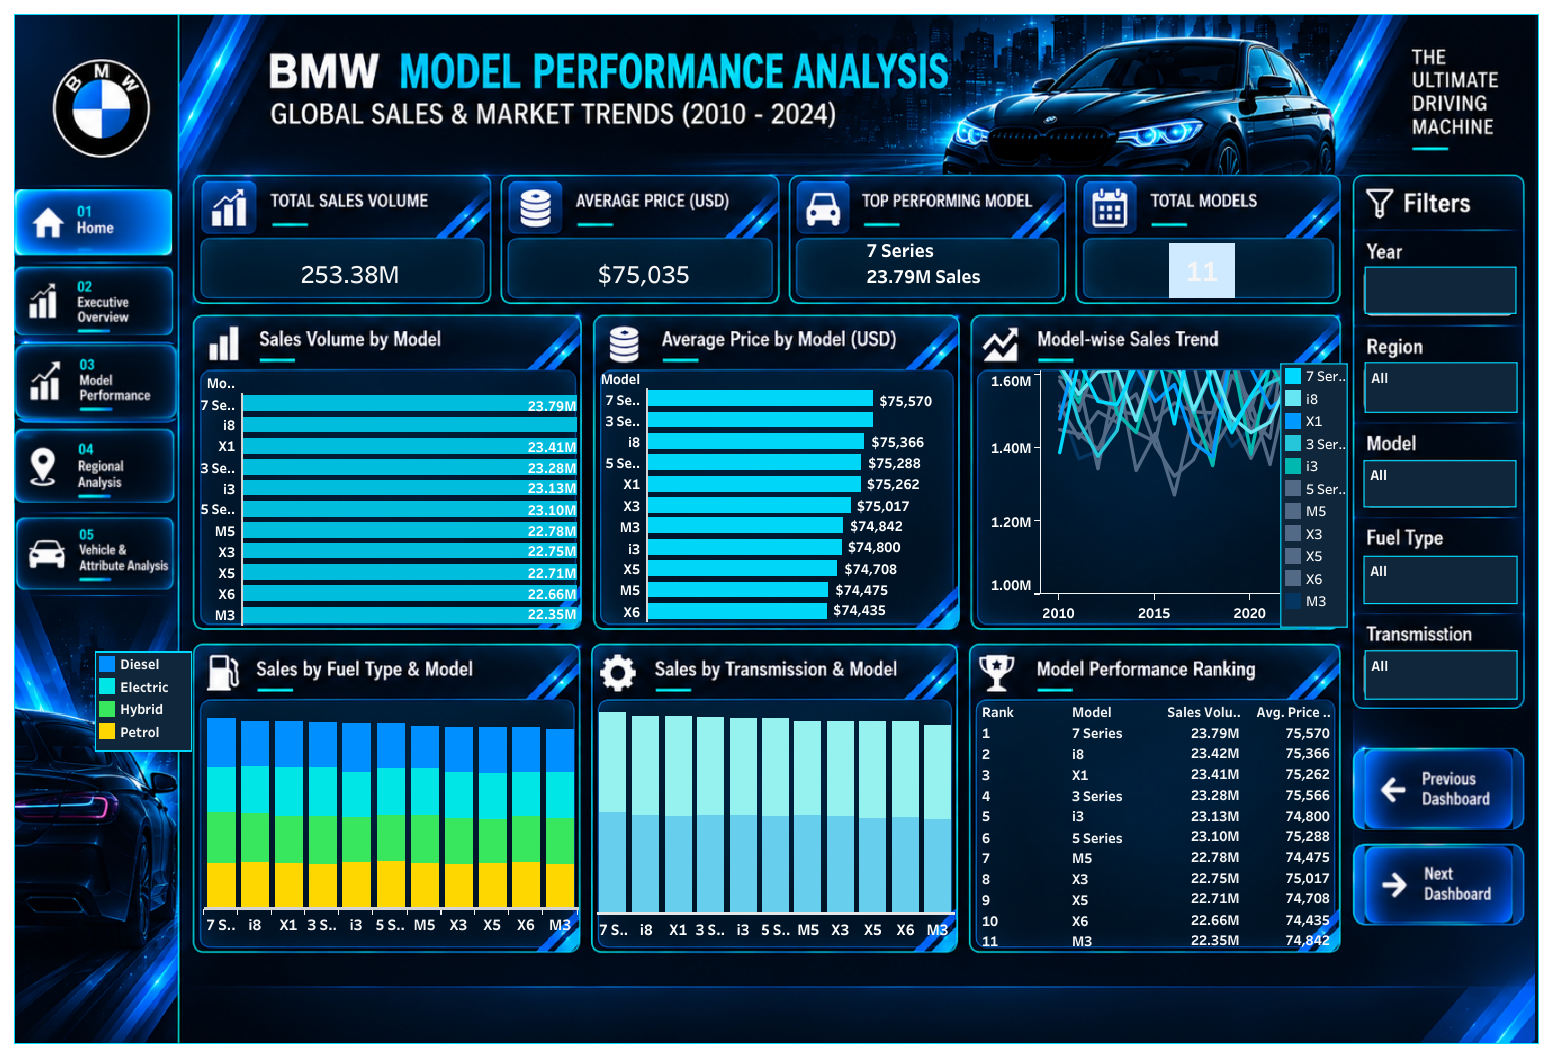

This screenshot's page, from the dashboard's own definition file:
{"tool":"tableau","page":{"name":"Dashboard 2","canvas":[1380,940],"ordinal":1},"visuals":[{"type":"image","param":"Image/BMW Neon Model Performance Dashboard.png","box":[8,8,1364,924]},{"type":"dashboard-object","box":[13,166,141,64]},{"type":"worksheet","title":"KPI - Top Modeling","mark":"Automatic","box":[766,211,160,56]},{"type":"worksheet","title":"KPI - Total Models","mark":"Automatic","box":[1039,216,86,62]},{"type":"worksheet","title":"KPI - Average Price","mark":"Text","rows":["Price_USD"],"box":[500,228,144,52]},{"type":"worksheet","title":"KPI- Total Sales Volume","mark":"Text","rows":["Sales_Volume"],"box":[239,234,146,107]},{"type":"dashboard-object","box":[13,235,141,66]},{"type":"filter","title":"Model-Wise Sales Trends","param":"[federated.18z69gv0p5a0b11arvxvz0n9zdok].[none:Year:qk]","box":[1213,237,135,42]},{"type":"dashboard-object","box":[13,305,144,69]},{"type":"filter","title":"Model Performance Ranking","param":"[federated.18z69gv0p5a0b11arvxvz0n9zdok].[none:Region:nk]","box":[1213,322,136,45]},{"type":"legend","title":"Model-Wise Sales Trends","param":"[federated.18z69gv0p5a0b11arvxvz0n9zdok].[none:Model:nk]","box":[1138,323,60,235]},{"type":"worksheet","title":"Average Price by Model (USD)","mark":"Automatic","rows":["Model"],"cols":["Price_USD"],"box":[534,325,315,227]},{"type":"worksheet","title":"Sales Volume by Model","mark":"Bar","rows":["Model"],"cols":["Sales_Volume"],"box":[178,329,335,226]},{"type":"worksheet","title":"Model-Wise Sales Trends","mark":"Line","rows":["Sales_Volume"],"cols":["Year"],"box":[868,329,328,230]},{"type":"dashboard-object","box":[13,372,142,85]},{"type":"filter","title":"Sales Volume by Model","param":"[federated.18z69gv0p5a0b11arvxvz0n9zdok].[none:Model:nk]","box":[1212,409,136,42]},{"type":"dashboard-object","box":[14,458,142,68]},{"type":"filter","title":"Sales by Fuel Type & Model","param":"[federated.18z69gv0p5a0b11arvxvz0n9zdok].[none:Fuel_Type:nk]","box":[1212,494,137,43]},{"type":"filter","title":"Sales by Transmission & Model","param":"[federated.18z69gv0p5a0b11arvxvz0n9zdok].[none:Transmission:nk]","box":[1213,578,136,44]},{"type":"legend","title":"Sales by Fuel Type & Model","param":"[federated.18z69gv0p5a0b11arvxvz0n9zdok].[none:Fuel_Type:nk]","box":[84,579,87,89]},{"type":"worksheet","title":"Model Performance Ranking","mark":"Automatic","rows":["Model"],"box":[867,622,320,223]},{"type":"worksheet","title":"Sales by Fuel Type & Model","mark":"Automatic","rows":["Sales_Volume"],"cols":["Model"],"box":[181,624,332,218]},{"type":"worksheet","title":"Sales by Transmission & Model","mark":"Automatic","rows":["Sales_Volume"],"cols":["Model"],"box":[531,624,317,222]},{"type":"dashboard-object","box":[1198,666,162,71]},{"type":"dashboard-object","box":[1204,752,151,69]}]}

Visuals, with their boxes in screenshot pixels (x1, y1, x2, y2), scaled from the page's 1380x940 canvas onto the 1551x1056 screenshot:
image: x1=9 y1=9 x2=1542 y2=1047
dashboard-object: x1=15 y1=186 x2=173 y2=258
"KPI - Top Modeling" worksheet: x1=861 y1=237 x2=1041 y2=300
"KPI - Total Models" worksheet: x1=1168 y1=243 x2=1264 y2=312
"KPI - Average Price" worksheet (Text marks): x1=562 y1=256 x2=724 y2=315
"KPI- Total Sales Volume" worksheet (Text marks): x1=269 y1=263 x2=433 y2=383
dashboard-object: x1=15 y1=264 x2=173 y2=338
"Model-Wise Sales Trends" filter: x1=1363 y1=266 x2=1515 y2=313
dashboard-object: x1=15 y1=343 x2=176 y2=420
"Model Performance Ranking" filter: x1=1363 y1=362 x2=1516 y2=412
"Model-Wise Sales Trends" legend: x1=1279 y1=363 x2=1346 y2=627
"Average Price by Model (USD)" worksheet: x1=600 y1=365 x2=954 y2=620
"Sales Volume by Model" worksheet (Bar marks): x1=200 y1=370 x2=577 y2=623
"Model-Wise Sales Trends" worksheet (Line marks): x1=976 y1=370 x2=1344 y2=628
dashboard-object: x1=15 y1=418 x2=174 y2=513
"Sales Volume by Model" filter: x1=1362 y1=459 x2=1515 y2=507
dashboard-object: x1=16 y1=515 x2=175 y2=591
"Sales by Fuel Type & Model" filter: x1=1362 y1=555 x2=1516 y2=603
"Sales by Transmission & Model" filter: x1=1363 y1=649 x2=1516 y2=699
"Sales by Fuel Type & Model" legend: x1=94 y1=650 x2=192 y2=750
"Model Performance Ranking" worksheet: x1=974 y1=699 x2=1334 y2=949
"Sales by Fuel Type & Model" worksheet: x1=203 y1=701 x2=577 y2=946
"Sales by Transmission & Model" worksheet: x1=597 y1=701 x2=953 y2=950
dashboard-object: x1=1346 y1=748 x2=1529 y2=828
dashboard-object: x1=1353 y1=845 x2=1523 y2=922
